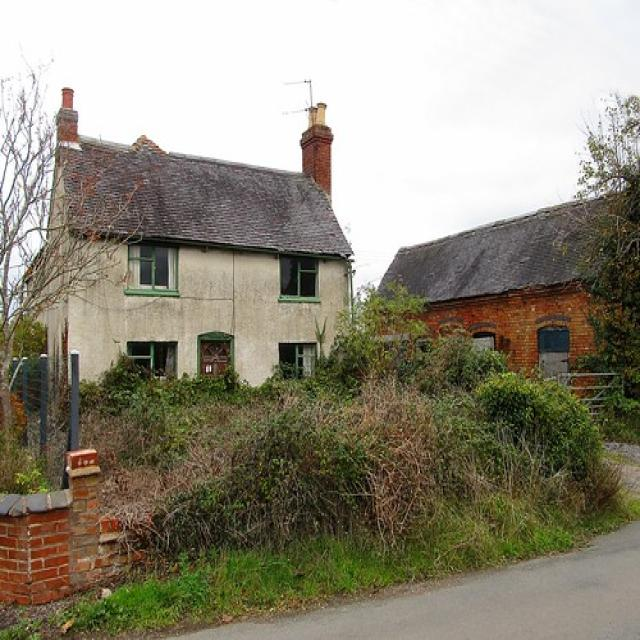building: (18, 80, 366, 449), (372, 181, 639, 443)
